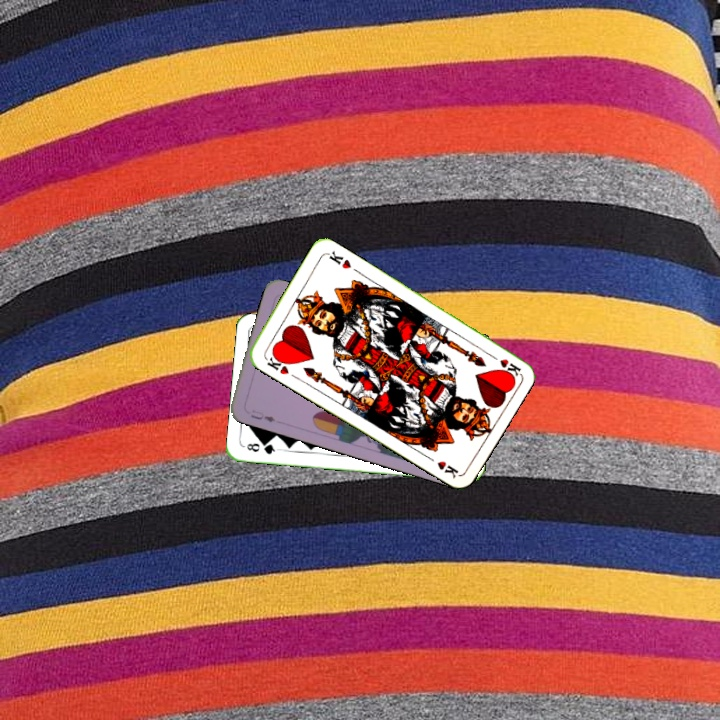EU: (247, 405, 278, 425)
G8: (243, 439, 281, 457)
HK: (484, 349, 523, 378), (261, 350, 292, 377)
